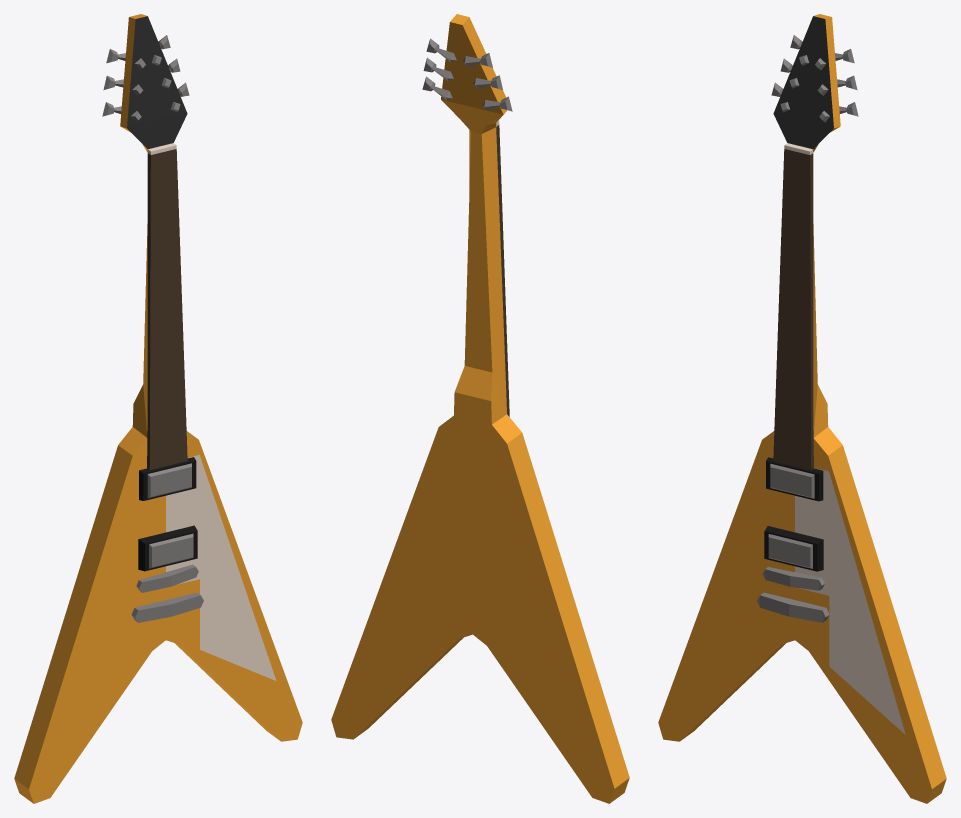
File: music_guitar-electric-metal.fbx
3 renders of one model, left to right at view 1: azimuth 30°, elevation 25°; view 2: azimuth 150°, elevation 25°; view 3: azimuth 330°, elevation 25°, orthographic. The views are drawn at different scales.
Parts seen in each view (by area): view 1: music_guitar_electric_metal; view 2: music_guitar_electric_metal; view 3: music_guitar_electric_metal.
Boxes of the visible parts, <box> form: music_guitar_electric_metal: <box>14,14,302,803</box>; music_guitar_electric_metal: <box>331,14,629,803</box>; music_guitar_electric_metal: <box>658,14,946,803</box>.
Bounding box in the file's own units: 77.81 × 200 × 18.26.
